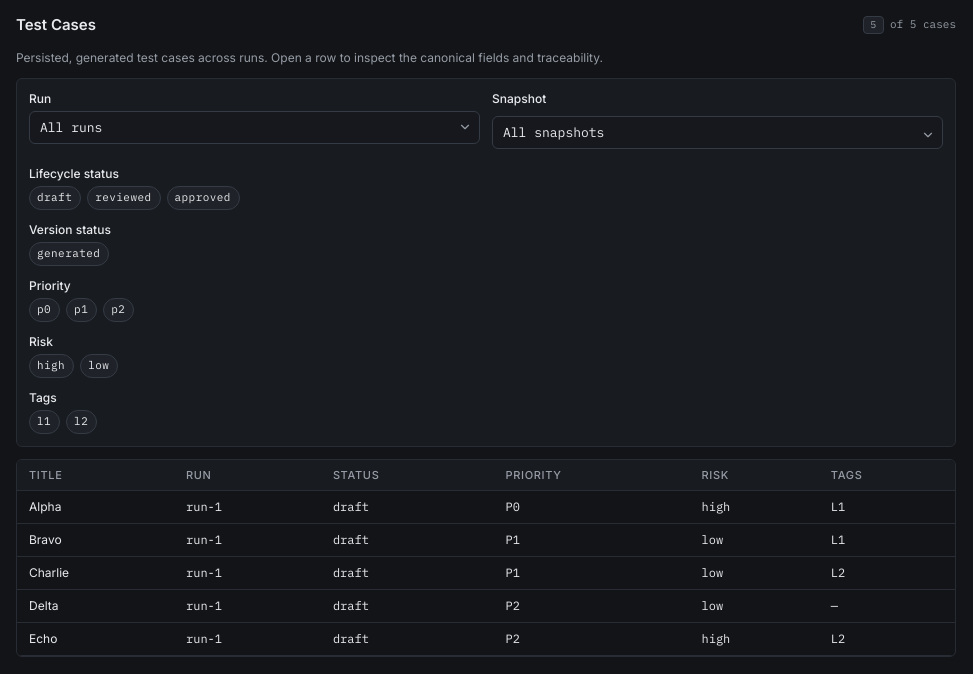
TestCasesScreen › shows the no-matches status when all rows are filtered out
Expected: the link "Alpha" is shown, [29,499,61,514]
Click the button "L1". click: [45, 422]
box: [29,410,60,434]
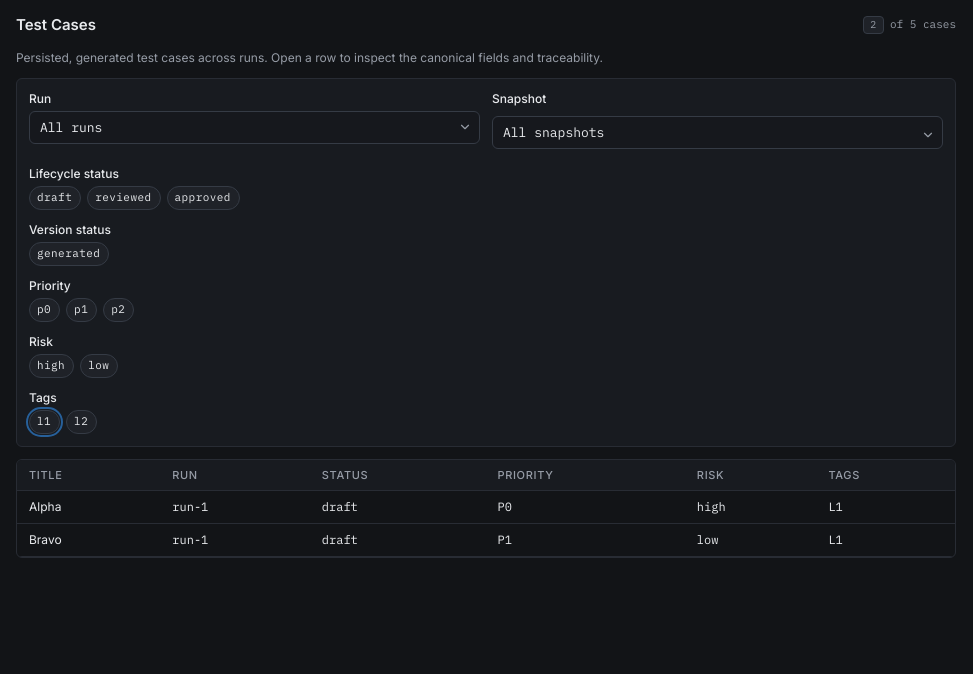
Click the button "L2". click: [82, 422]
box: [66,410,97,434]
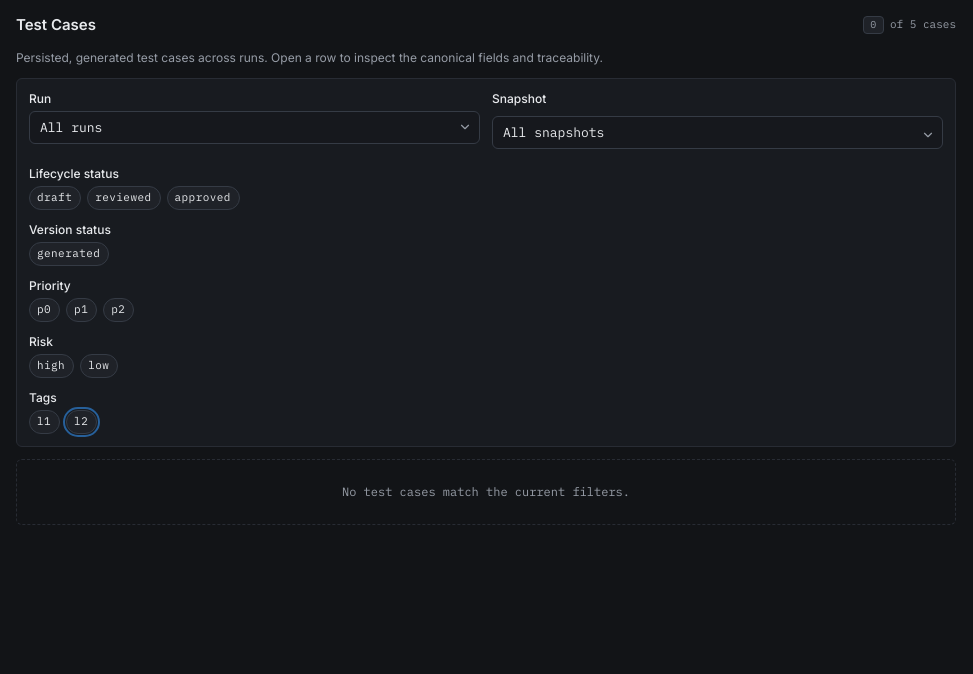
Expected: the text "No test cases match the current filters." is shown, [16,459,956,525]
